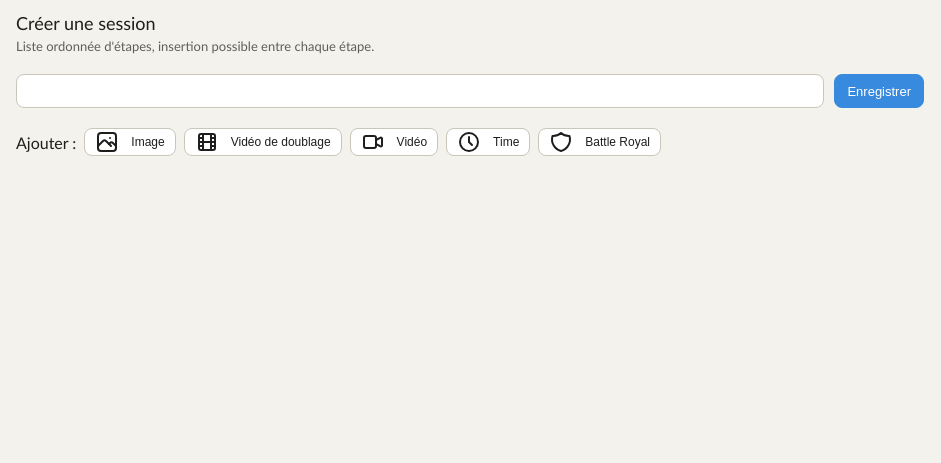
Test: SessionCreationScreen - new session, local step list › lets the user rename a step from the inline editor
The width and height of the screenshot is (941, 463).
Click the button "Image": (130, 142) left=84, top=128, right=176, bottom=156
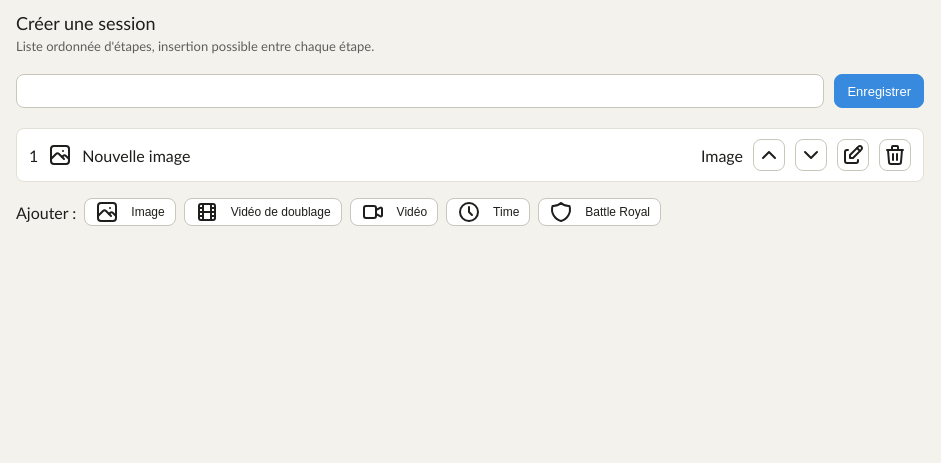
Click the button named "Modifier l'étape": (853, 155) left=837, top=139, right=869, bottom=171
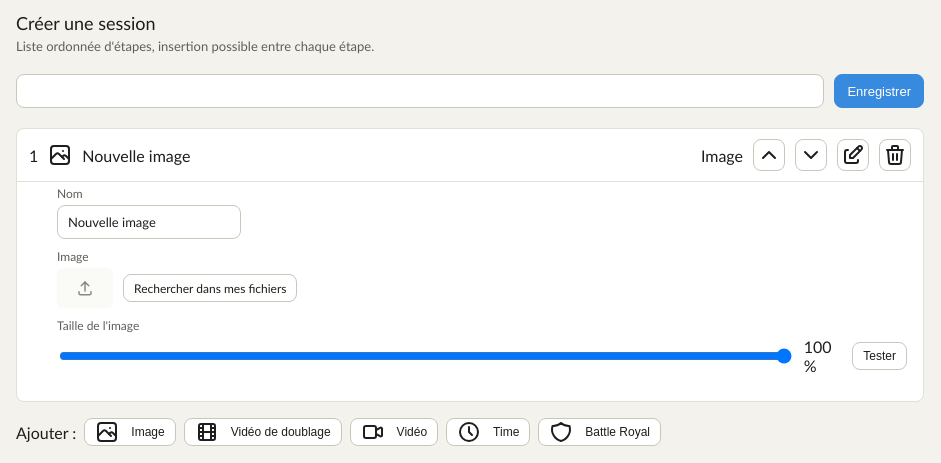
Replace the text in the field labelled "Nom" with "Logo établissement": (149, 222) left=57, top=205, right=241, bottom=239
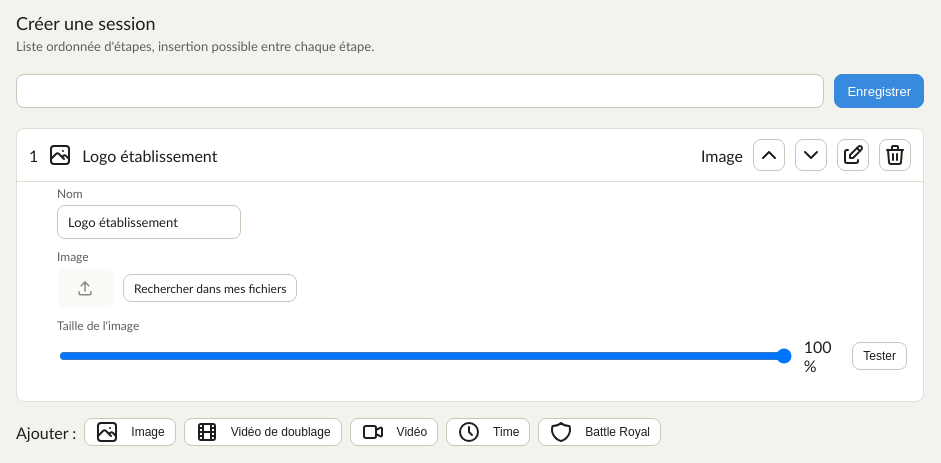
expect the text "Logo établissement" is shown: met, box left=82, top=146, right=218, bottom=164
